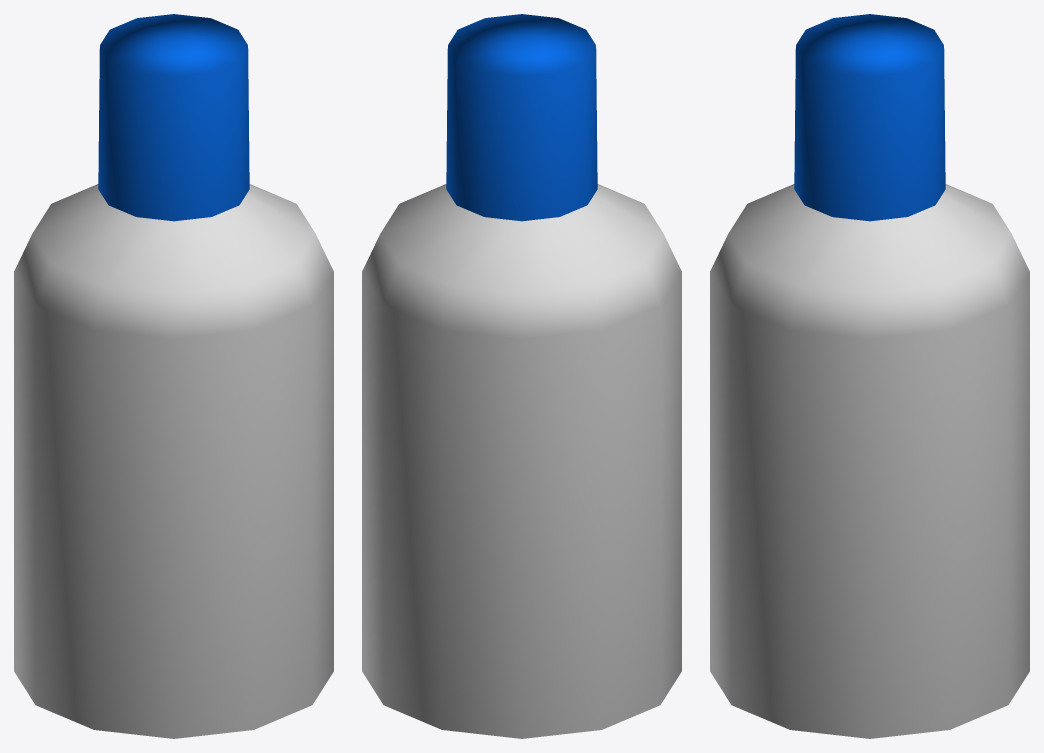
File: removedor.fbx
3 renders of one model, left to right at view 1: azimuth 30°, elevation 25°; view 2: azimuth 150°, elevation 25°; view 3: azimuth 270°, elevation 25°, orthographic.
Visible parts, largest first — view 1: Removedor; view 2: Removedor; view 3: Removedor.
Part boxes in pixels (box(x1,y1,x2,y2)): Removedor: box(14, 14, 333, 738); Removedor: box(362, 14, 681, 738); Removedor: box(710, 14, 1029, 738).
Size of the model in its own units: 2 by 4.34 by 2.
